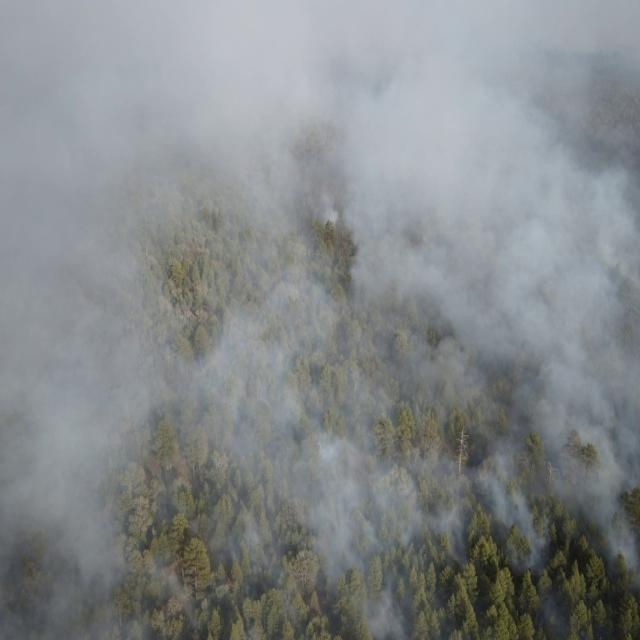fire: (226, 578, 237, 592)
smoke: (0, 0, 640, 640)
